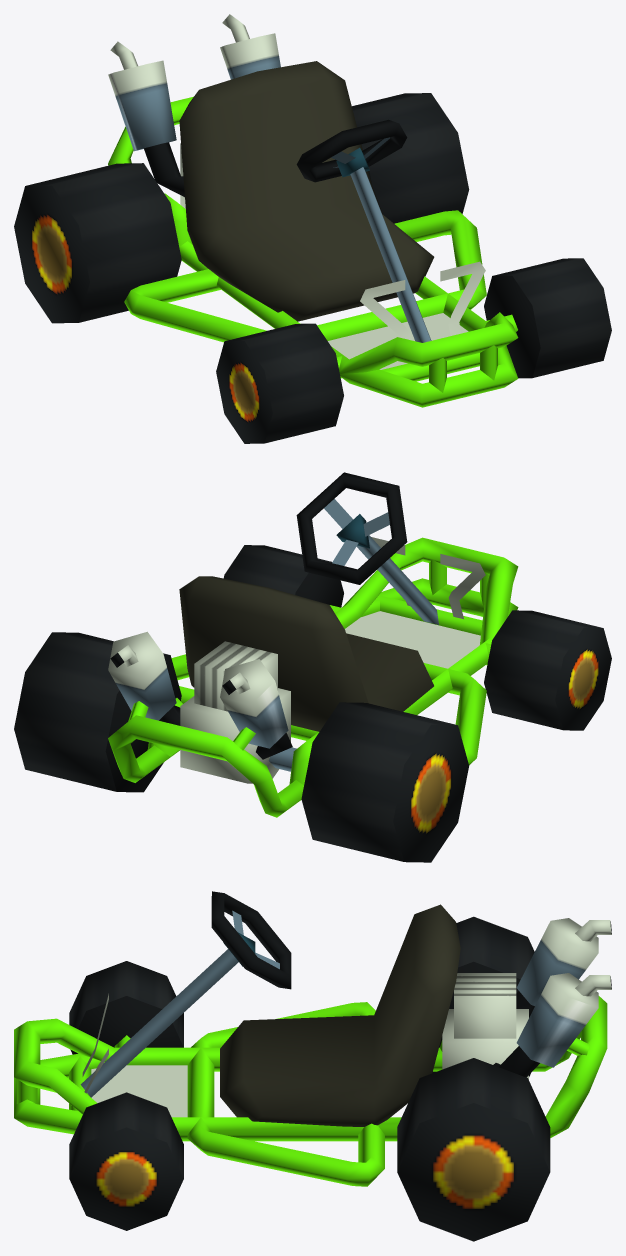
File: pipeframe64_yoshi.dae
The picture shows the model from 3 angles, top to bottom: view 1: azimuth 30°, elevation 25°; view 2: azimuth 150°, elevation 25°; view 3: azimuth 270°, elevation 25°; orthographic projection.
Parts seen in each view (by area): view 1: seat, frame, wheel_r.r, wheel_f.r, wheel_f.l, wheel_r.l, engine, steeringwheel, pedals; view 2: frame, wheel_r.r, seat, wheel_r.l, engine, wheel_f.r, steeringwheel, wheel_f.l, pedals; view 3: frame, seat, wheel_r.l, engine, wheel_f.l, steeringwheel, wheel_f.r, wheel_r.r.
Boxes of the visible parts, bbox=[...] form: seat: bbox=[179, 61, 434, 321]; frame: bbox=[108, 96, 518, 407]; wheel_r.r: bbox=[14, 163, 181, 323]; wheel_f.r: bbox=[216, 323, 343, 443]; wheel_f.l: bbox=[484, 258, 611, 378]; wheel_r.l: bbox=[352, 93, 469, 223]; engine: bbox=[108, 14, 280, 208]; steeringwheel: bbox=[296, 119, 431, 342]; pedals: bbox=[360, 261, 485, 363]; frame: bbox=[108, 537, 518, 817]; wheel_r.r: bbox=[301, 702, 468, 862]; seat: bbox=[179, 576, 433, 731]; wheel_r.l: bbox=[14, 632, 181, 792]; engine: bbox=[108, 631, 292, 783]; wheel_f.r: bbox=[484, 610, 611, 730]; steeringwheel: bbox=[296, 472, 438, 624]; wheel_f.l: bbox=[223, 545, 343, 607]; pedals: bbox=[371, 537, 485, 619]; frame: bbox=[14, 996, 607, 1186]; seat: bbox=[220, 904, 460, 1126]; wheel_r.l: bbox=[397, 1058, 550, 1241]; engine: bbox=[442, 918, 611, 1079]; wheel_f.l: bbox=[69, 1092, 183, 1230]; steeringwheel: bbox=[80, 891, 291, 1097]; wheel_f.r: bbox=[69, 961, 183, 1054]; wheel_r.r: bbox=[432, 916, 534, 1076].
Size of the model in its own units: 13.01 by 17.65 by 7.94.
1 material, 1 textured.
